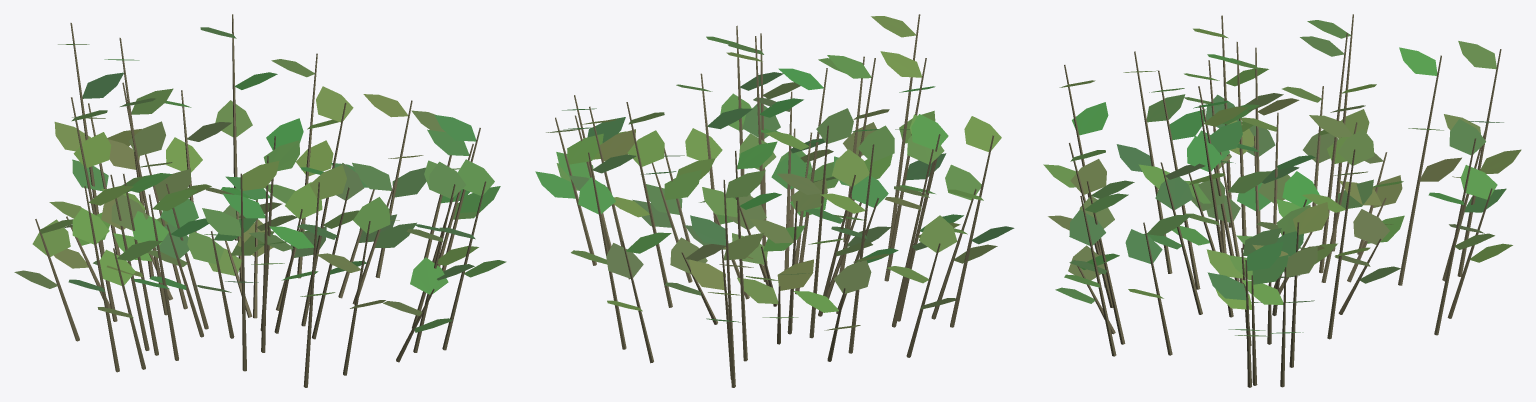
File: bush-03.glb
3 renders of one model, left to right at view 1: azimuth 30°, elevation 25°; view 2: azimuth 150°, elevation 25°; view 3: azimuth 270°, elevation 25°, orthographic.
Visible parts, largest first — view 1: part_000; view 2: part_000; view 3: part_000.
Part boxes in pixels (left/top/right/bottom): part_000: left=14, top=14, right=506, bottom=387; part_000: left=535, top=14, right=1014, bottom=387; part_000: left=1043, top=14, right=1521, bottom=387.
Bounding box in the file's own units: 1.99 × 0.9822 × 1.88.
